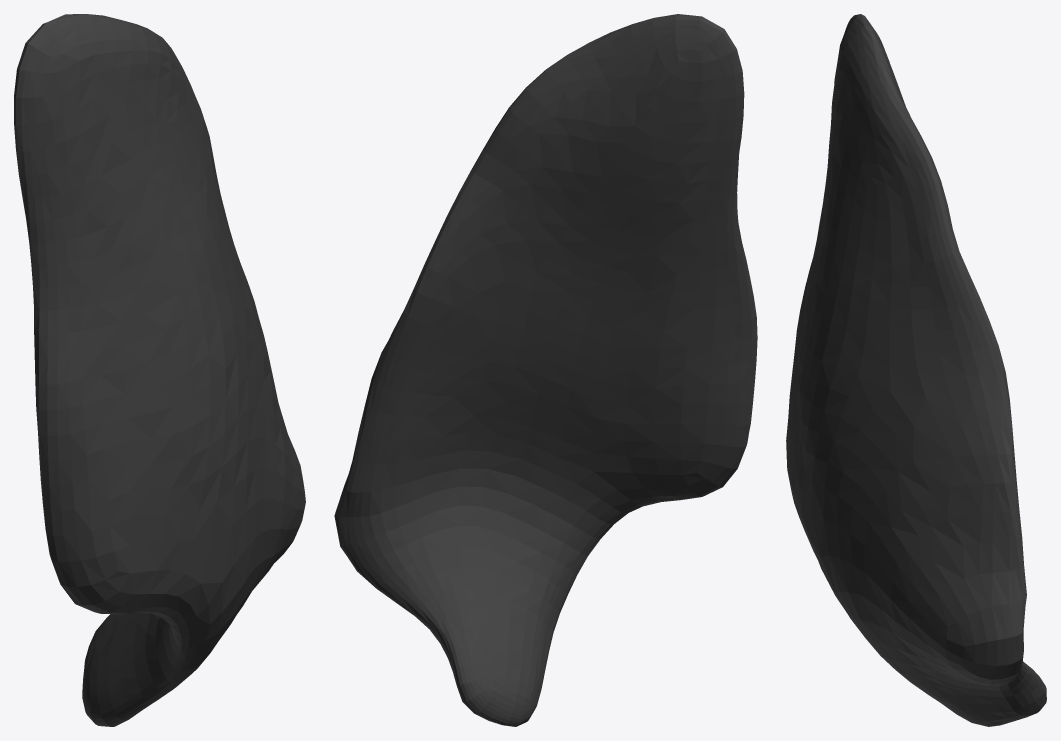
Rendered from m_cricoarytenoideus_dorsalis_LO_L.glb.
3 renders of one model, left to right at view 1: azimuth 30°, elevation 25°; view 2: azimuth 150°, elevation 25°; view 3: azimuth 270°, elevation 25°, orthographic. The views are drawn at different scales.
Parts seen in each view (by area): view 1: m_cricoarytenoideus_dorsalis_LO_L; view 2: m_cricoarytenoideus_dorsalis_LO_L; view 3: m_cricoarytenoideus_dorsalis_LO_L.
Part boxes in pixels (bbox=[...]): m_cricoarytenoideus_dorsalis_LO_L: bbox=[14, 14, 305, 726]; m_cricoarytenoideus_dorsalis_LO_L: bbox=[334, 14, 757, 726]; m_cricoarytenoideus_dorsalis_LO_L: bbox=[786, 14, 1046, 726].
Size of the model in its own units: 0.1509 by 0.3062 by 0.1099.
1 material, 1 textured.
